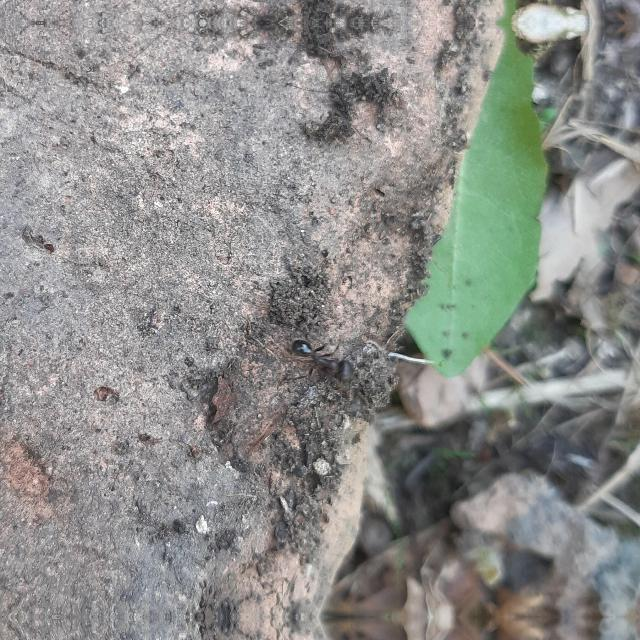Messor: (288, 329, 356, 388)
